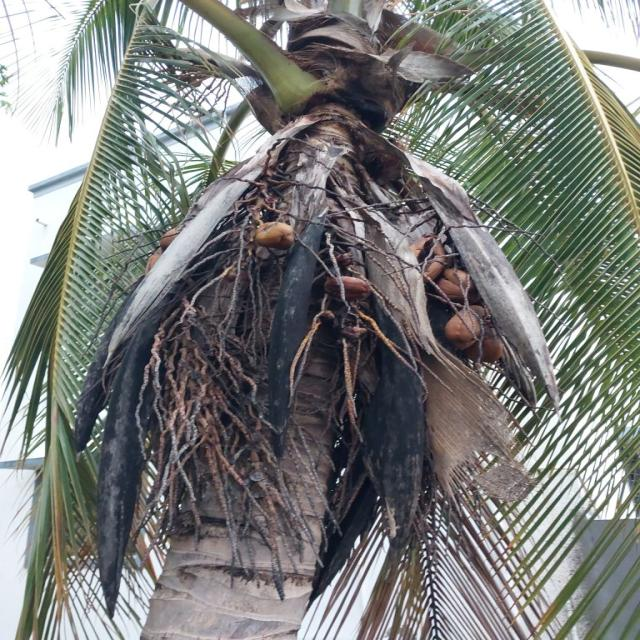bud root dropping: (13, 0, 630, 640)
